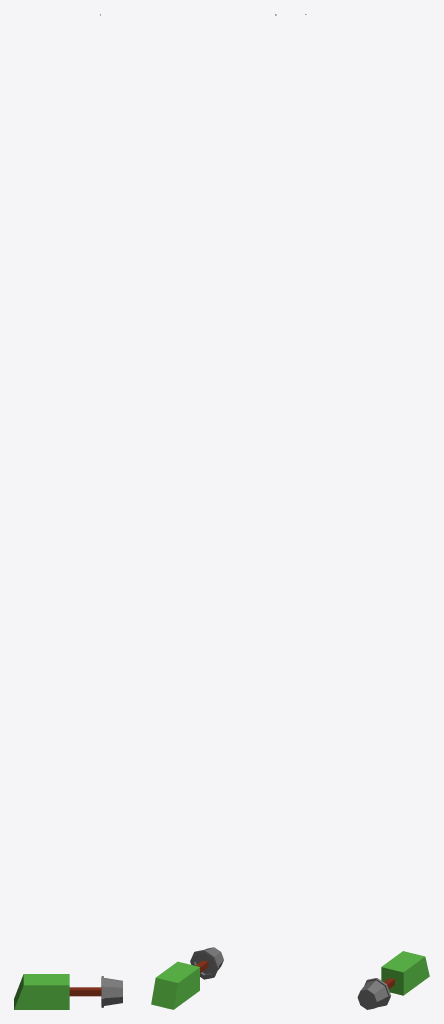
The model's file is HSBC Entorno_10_CAPAS_porteRIA fUTBOL.fbx.
The picture shows the model from 3 angles, left to right: view 1: azimuth 90°, elevation 25°; view 2: azimuth 150°, elevation 25°; view 3: azimuth 330°, elevation 25°; orthographic projection. The views are drawn at different scales.
Visible parts, largest first — view 1: hojas.037, maceta.037, tallo.022; view 2: hojas.037, maceta.037; view 3: hojas.037, maceta.037.
Boxes of the visible parts, x1,y1,x2,y2 form: hojas.037: (14,974,69,1009); maceta.037: (101,976,122,1007); tallo.022: (69,987,101,996); hojas.037: (151,961,199,1009); maceta.037: (190,947,223,979); hojas.037: (381,951,429,995); maceta.037: (357,978,390,1009).
Bounding box in the file's own units: 16777 × 180802 × 17302.
